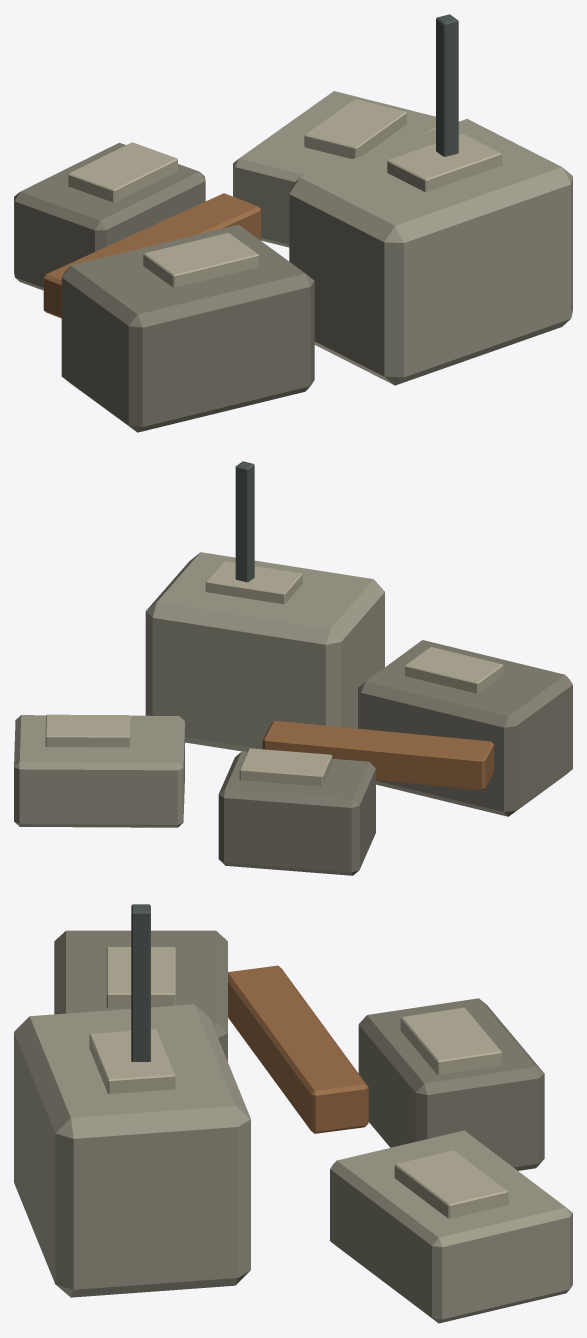
The model's file is warm_rubble.glb.
3 views of the same model, one above another, from view 1: azimuth 30°, elevation 25°; view 2: azimuth 150°, elevation 25°; view 3: azimuth 270°, elevation 25° (orthographic). The views are drawn at different scales.
Visible parts, largest first — view 1: rubble_sample_stone, rubble_sample_stone_dark, rubble_sample_stone_light, rubble_sample_wood, rubble_sample_iron; view 2: rubble_sample_stone, rubble_sample_stone_dark, rubble_sample_stone_light, rubble_sample_wood, rubble_sample_iron; view 3: rubble_sample_stone, rubble_sample_stone_dark, rubble_sample_stone_light, rubble_sample_wood, rubble_sample_iron.
Part boxes in pixels (x1,y1,x2,y2): rubble_sample_stone: (233, 91, 572, 385); rubble_sample_stone_dark: (14, 142, 314, 432); rubble_sample_stone_light: (68, 99, 501, 287); rubble_sample_wood: (43, 193, 260, 318); rubble_sample_iron: (436, 14, 458, 156); rubble_sample_stone: (14, 552, 384, 827); rubble_sample_stone_dark: (218, 640, 572, 875); rubble_sample_stone_light: (45, 561, 503, 786); rubble_sample_wood: (262, 720, 493, 790); rubble_sample_iron: (235, 461, 254, 582); rubble_sample_stone: (14, 1004, 572, 1323); rubble_sample_stone_dark: (54, 930, 544, 1170); rubble_sample_stone_light: (89, 947, 508, 1218); rubble_sample_wood: (228, 965, 368, 1133); rubble_sample_iron: (131, 904, 150, 1061).
Size of the model in its own units: 0.7349 by 0.44 by 0.6484.
